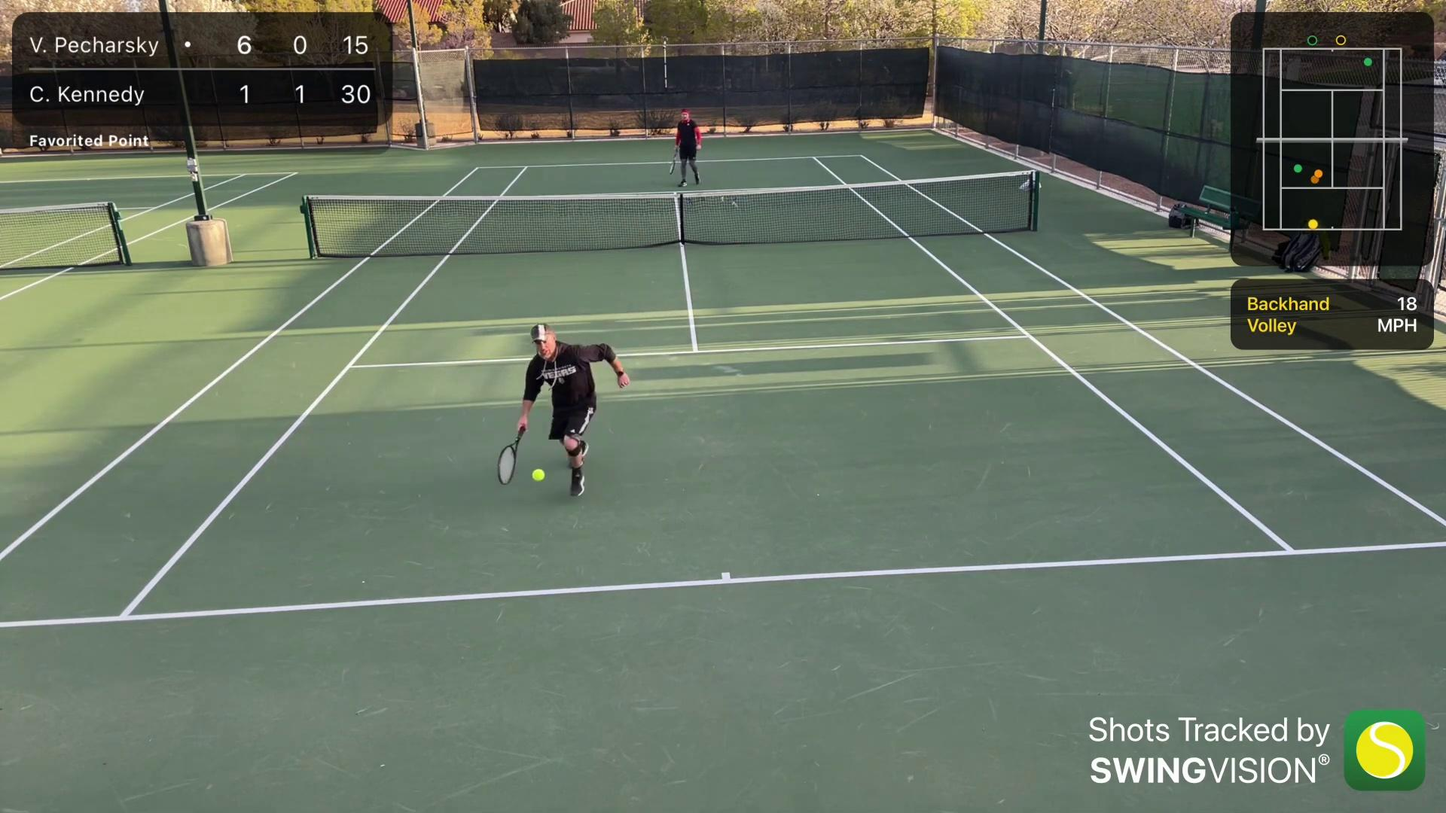ball: (529, 465, 548, 483)
